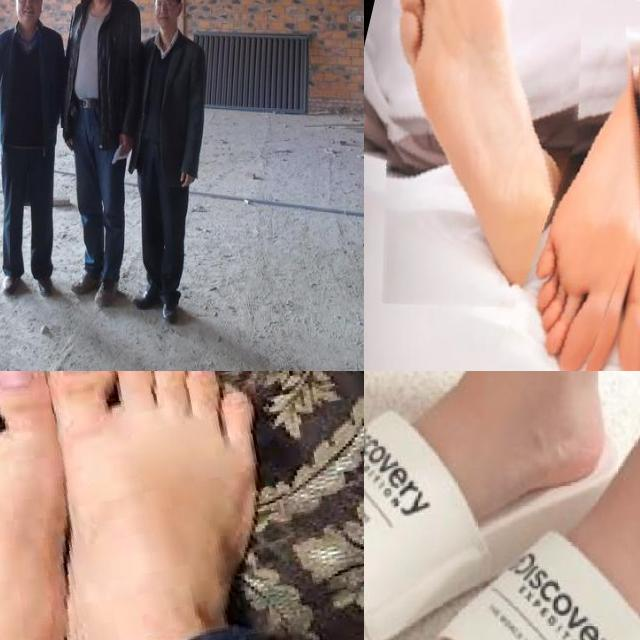Barefoots: (364, 0, 640, 332), (47, 371, 263, 640), (507, 0, 640, 371), (567, 9, 640, 371), (0, 371, 68, 640)
No_Ear-Protection: (153, 0, 189, 40), (10, 0, 50, 31)
Sandals: (375, 371, 640, 640), (364, 371, 481, 640)
